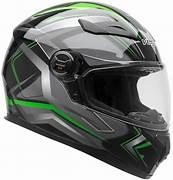Helmet: (6, 4, 169, 178)
